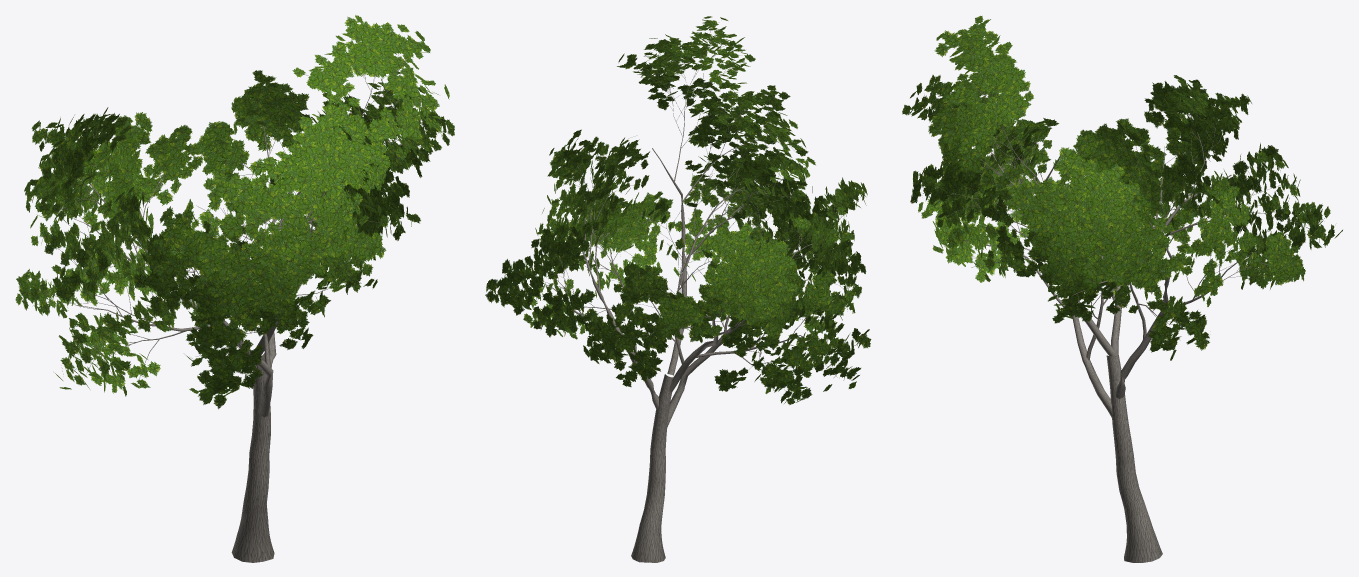
The model's file is tree-ash-tall.glb.
The picture shows the model from 3 angles, left to right: view 1: azimuth 30°, elevation 25°; view 2: azimuth 150°, elevation 25°; view 3: azimuth 270°, elevation 25°; orthographic projection. The views are drawn at different scales.
Parts seen in each view (by area): view 1: leaves, bark; view 2: leaves, bark; view 3: leaves, bark.
Boxes of the visible parts, box(x1,y1,x2,y2) form: leaves: box(15, 15, 454, 409); bark: box(29, 34, 444, 562); leaves: box(485, 16, 871, 404); bark: box(497, 29, 859, 562); leaves: box(902, 15, 1342, 360); bark: box(915, 44, 1325, 562).
Bounding box in the file's own units: 13.73 × 19.99 × 14.67.
Materials: 2 (2 with a texture image).
